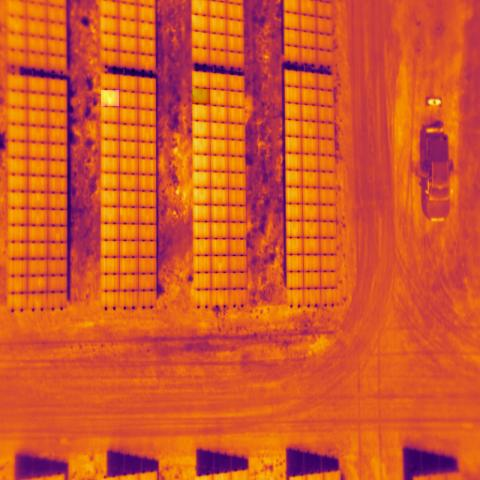fault: (101, 90, 119, 106), (192, 88, 210, 104)
